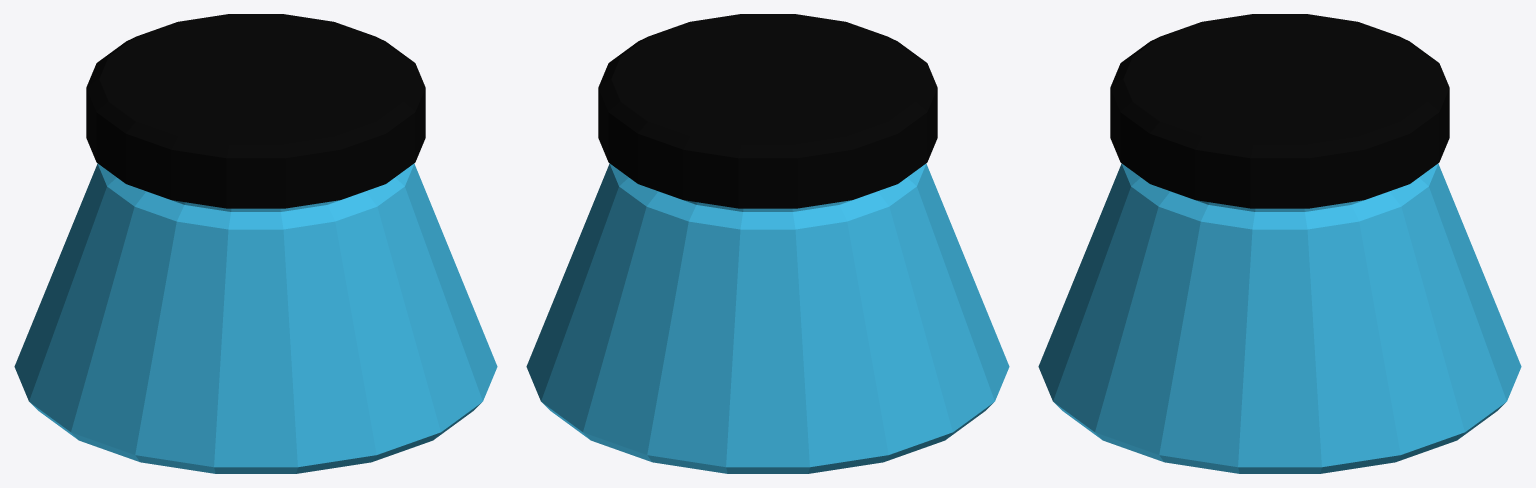
File: Jar4.fbx
The picture shows the model from 3 angles, left to right: view 1: azimuth 30°, elevation 25°; view 2: azimuth 150°, elevation 25°; view 3: azimuth 270°, elevation 25°; orthographic projection.
Visible parts, largest first — view 1: Cylinder.022, Cylinder.010; view 2: Cylinder.022, Cylinder.010; view 3: Cylinder.022, Cylinder.010.
Boxes of the visible parts, x1,y1,x2,y2 form: Cylinder.022: [14, 163, 497, 473]; Cylinder.010: [86, 14, 425, 208]; Cylinder.022: [526, 163, 1009, 473]; Cylinder.010: [598, 14, 937, 208]; Cylinder.022: [1038, 163, 1521, 473]; Cylinder.010: [1110, 14, 1449, 208].
Bounding box in the file's own units: 6.63 × 4.59 × 6.74.
